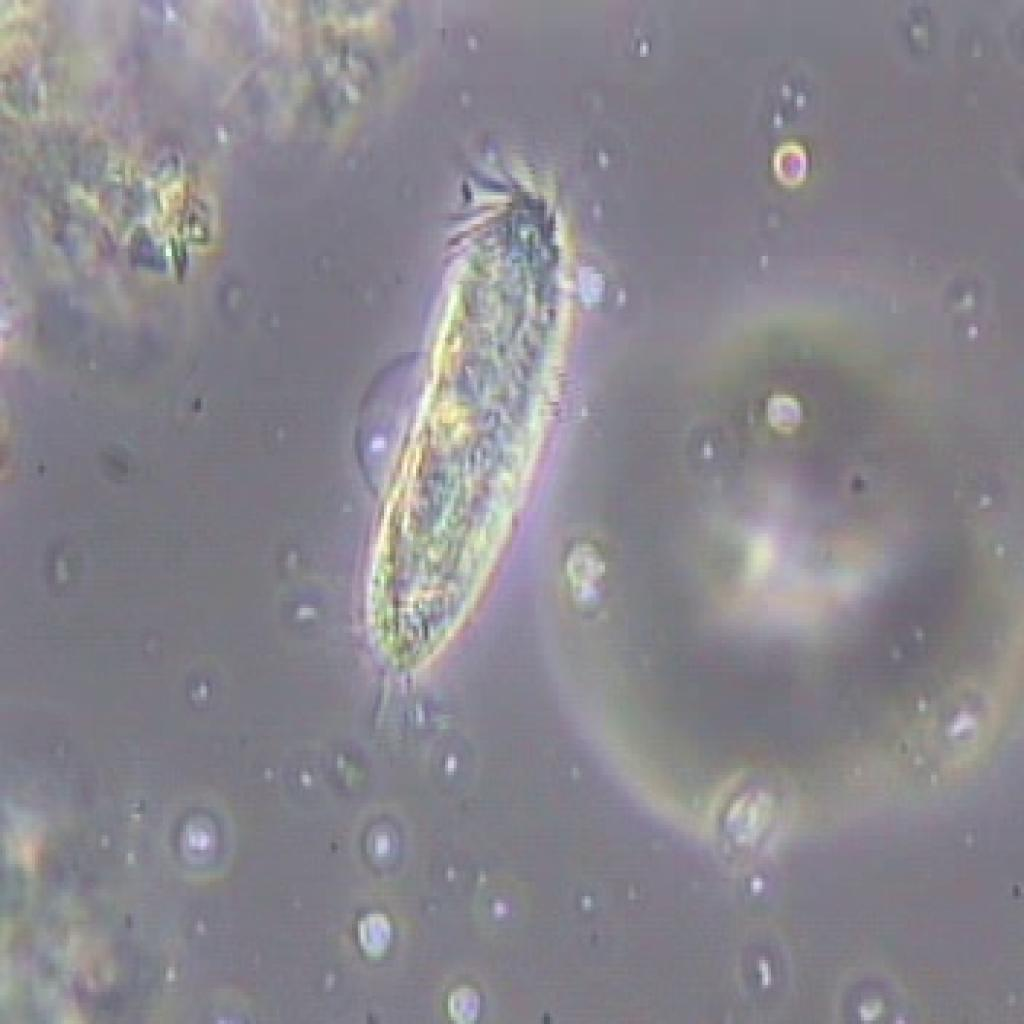Stylonychia: (323, 144, 596, 759)
